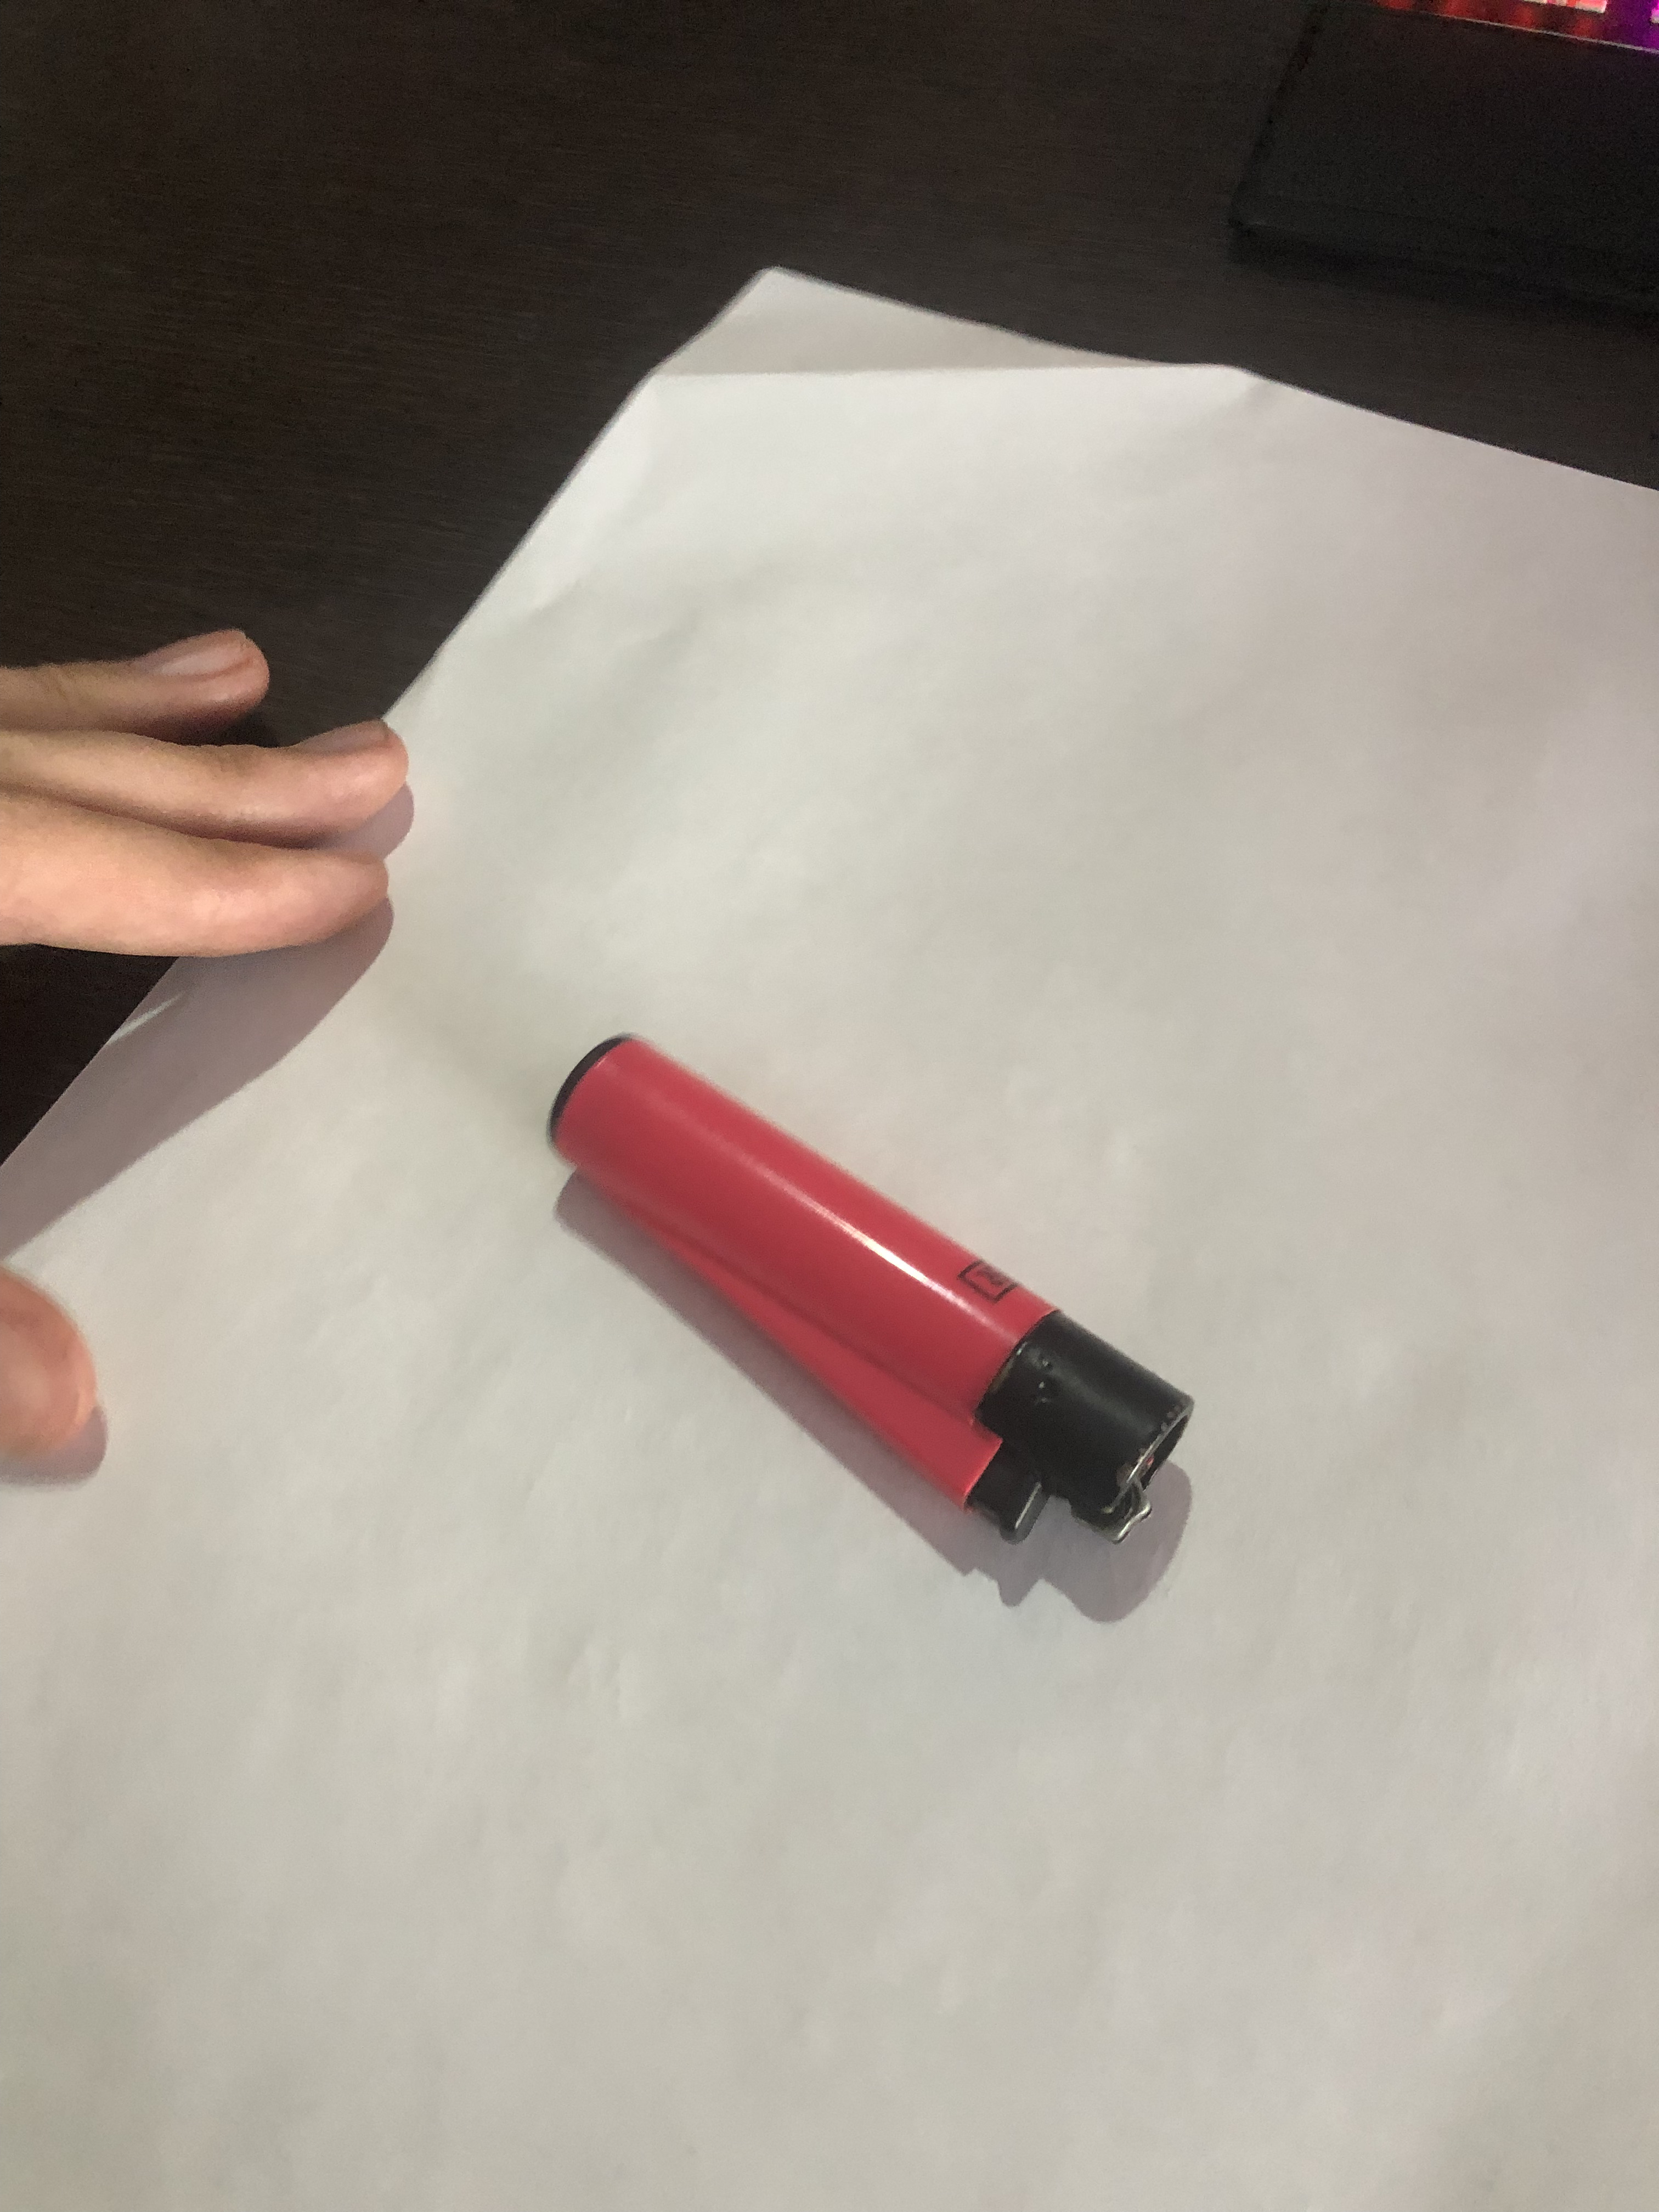Mechero: (544, 1024, 1202, 1547)
